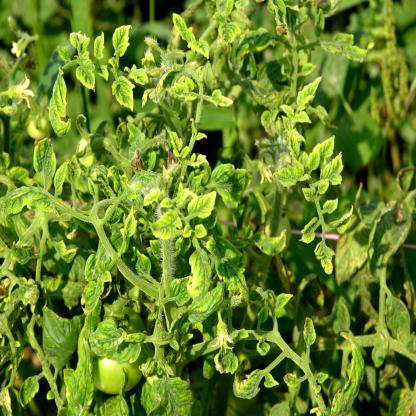tomato leaf yellow virus: (73, 317, 151, 370), (328, 343, 376, 416), (57, 345, 95, 416), (207, 162, 260, 208), (146, 199, 196, 245), (188, 277, 230, 328), (77, 264, 109, 330), (47, 72, 72, 141), (229, 361, 269, 404), (314, 154, 346, 204), (70, 44, 99, 98), (185, 182, 220, 224), (186, 248, 212, 301), (111, 72, 139, 120), (32, 137, 57, 187), (106, 17, 134, 60), (308, 240, 337, 280), (292, 74, 323, 110), (217, 18, 247, 49), (166, 74, 203, 99), (209, 88, 237, 116), (312, 135, 335, 160), (191, 38, 211, 65)
